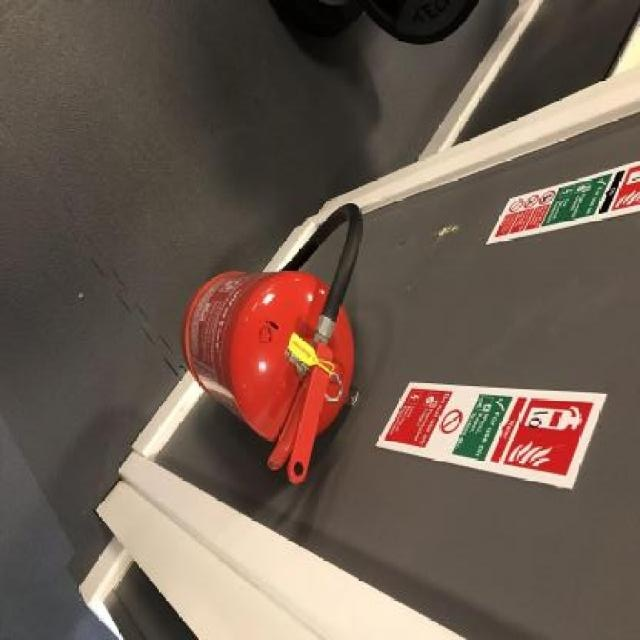fire extinguisher: (179, 204, 364, 484)
